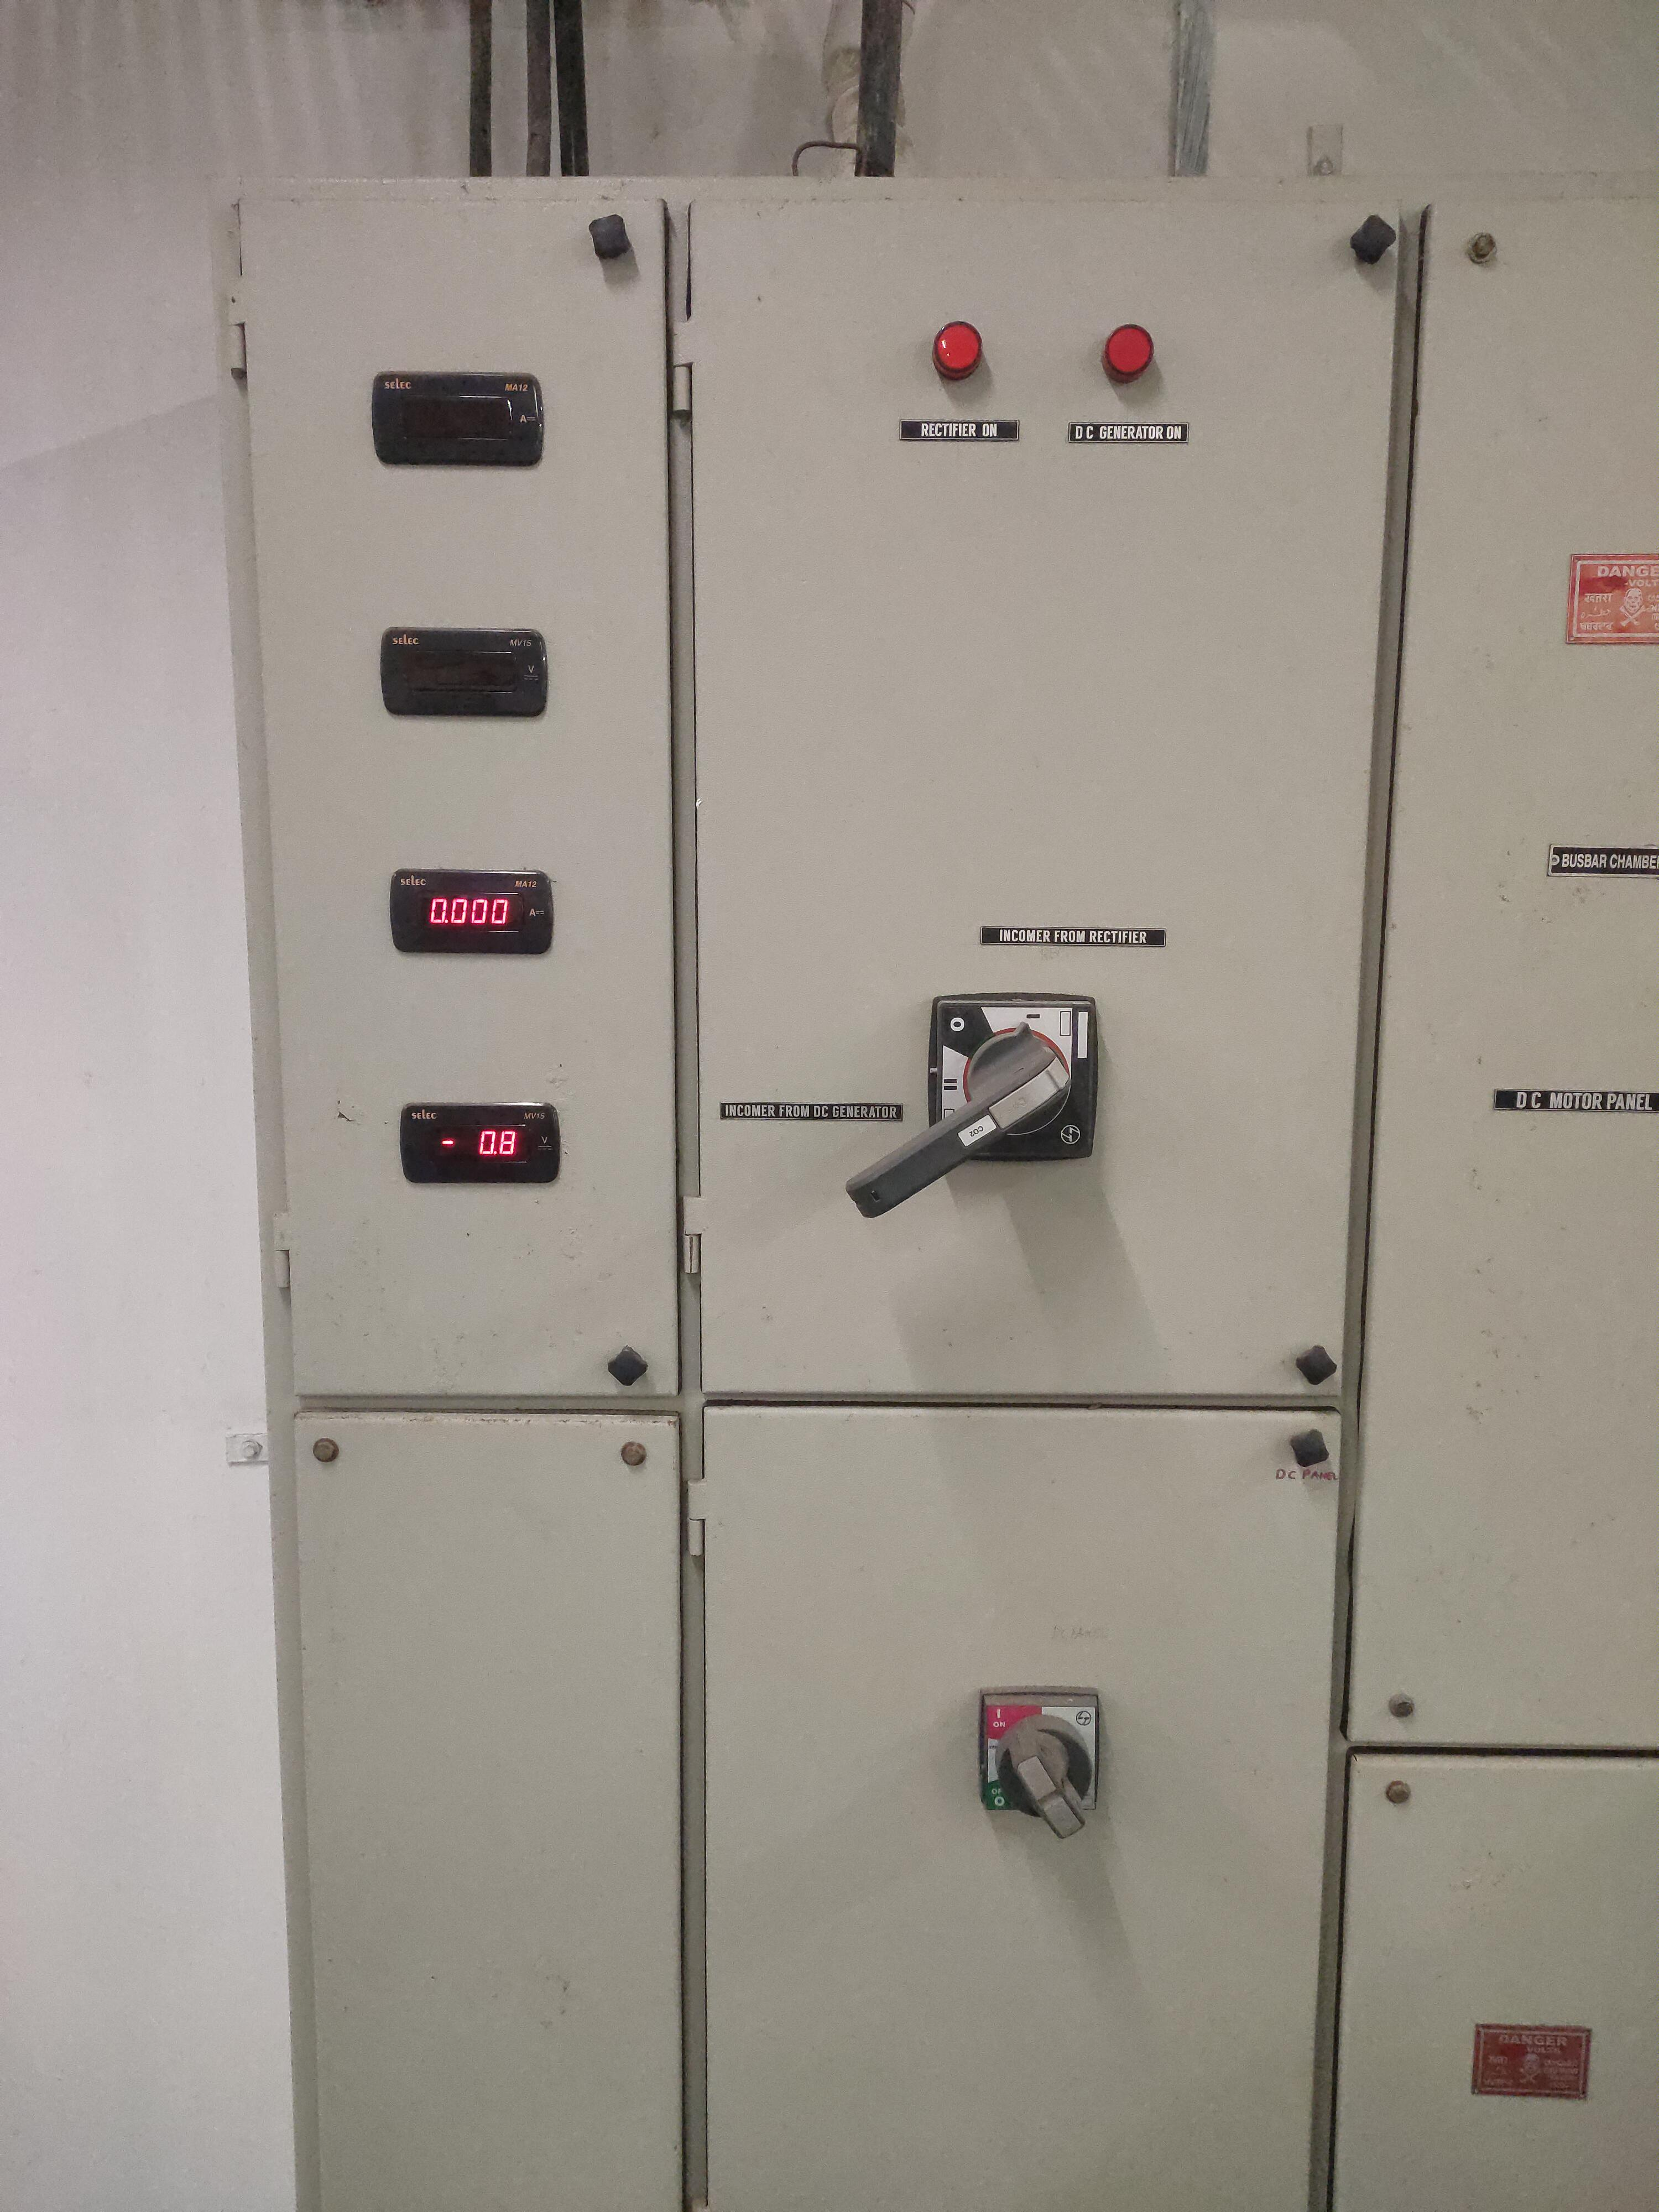Knob 1: (803, 974, 1161, 1242)
Knob 2: (962, 1665, 1129, 1855)
Light Indications: (847, 268, 1222, 463)
